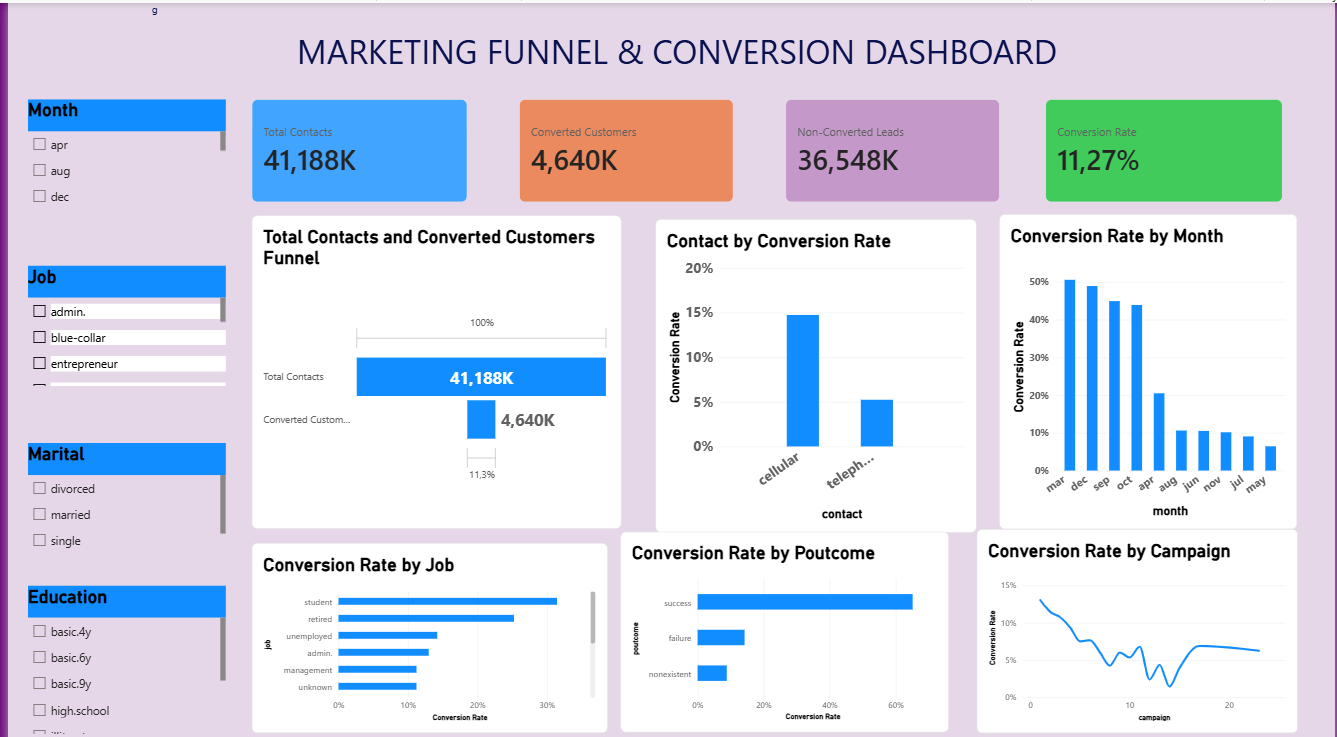

What the dashboard file says about the page in this screenshot:
{"tool":"powerbi","page":{"name":"Page 1","canvas":[1920,1080],"ordinal":0},"visuals":[{"type":"cardVisual","fields":{"Data":["bank-additional-full.Total Contacts"]},"box":[352.2,138.7,312.6,149.7],"z":0},{"type":"textbox","box":[208.2,0,1593.8,138.8],"z":1000},{"type":"cardVisual","fields":{"Data":["bank-additional-full.Converted Customers"]},"box":[739.7,138.7,310.4,149.7],"z":2000},{"type":"cardVisual","fields":{"Data":["bank-additional-full.Non-Converted Leads"]},"box":[1124.9,138.7,310.4,149.7],"z":3000},{"type":"cardVisual","fields":{"Data":["bank-additional-full.Conversion Rate"]},"box":[1501.3,138.7,343.4,149.7],"z":4000},{"type":"clusteredColumnChart","title":"Contact by Conversion Rate","fields":{"Category":["bank-additional-full.contact"],"Y":["bank-additional-full.Conversion Rate"]},"box":[937.8,312.6,464.5,453.5],"z":5000},{"type":"clusteredColumnChart","title":"Conversion Rate by Month","fields":{"Category":["bank-additional-full.month"],"Y":["bank-additional-full.Conversion Rate"]},"box":[1435.3,306,431.5,455.7],"z":6000},{"type":"barChart","title":"Conversion Rate by Job","fields":{"Category":["bank-additional-full.job"],"Y":["bank-additional-full.Conversion Rate"]},"box":[352.2,781.5,515.1,275.2],"z":7000},{"type":"barChart","title":"Conversion Rate by Poutcome","fields":{"Category":["bank-additional-full.poutcome"],"Y":["bank-additional-full.Conversion Rate"]},"box":[887.1,766.1,475.5,290.6],"z":8000},{"type":"lineChart","title":"Conversion Rate by Campaign","fields":{"Category":["bank-additional-full.campaign"],"Y":["bank-additional-full.Conversion Rate"]},"box":[1402.3,761.7,464.5,295],"z":9000},{"type":"funnel","title":"Total Contacts and Converted Customers Funnel","fields":{"Y":["bank-additional-full.Total Contacts","bank-additional-full.Converted Customers"]},"box":[352.2,308.2,534.9,453.5],"z":10000},{"type":"slicer","title":"Month","fields":{"Values":["bank-additional-full.month"]},"box":[28.6,138.7,286.2,149.7],"z":11000},{"type":"slicer","title":"Job","fields":{"Values":["bank-additional-full.job"]},"box":[28.1,393.9,286.2,173.9],"z":12000},{"type":"slicer","title":"Marital","fields":{"Values":["bank-additional-full.marital"]},"box":[28.6,636.2,286.2,160.7],"z":13000},{"type":"slicer","title":"Education","fields":{"Values":["bank-additional-full.education"]},"box":[28.6,843.1,286.2,213.5],"z":14000}]}

Visuals, with their boxes in screenshot pixels (x1, y1, x2, y2), scaled from the page's 1920x1080 canvas onto the 1337x737 screenshot:
cardVisual - bank-additional-full.Total Contacts: detection(245, 95, 463, 197)
textbox: detection(145, 0, 1255, 95)
cardVisual - bank-additional-full.Converted Customers: detection(515, 95, 731, 197)
cardVisual - bank-additional-full.Non-Converted Leads: detection(783, 95, 999, 197)
cardVisual - bank-additional-full.Conversion Rate: detection(1045, 95, 1285, 197)
"Contact by Conversion Rate" clusteredColumnChart: detection(653, 213, 976, 523)
"Conversion Rate by Month" clusteredColumnChart: detection(999, 209, 1300, 520)
"Conversion Rate by Job" barChart: detection(245, 533, 604, 721)
"Conversion Rate by Poutcome" barChart: detection(618, 523, 949, 721)
"Conversion Rate by Campaign" lineChart: detection(976, 520, 1300, 721)
"Total Contacts and Converted Customers Funnel" funnel: detection(245, 210, 618, 520)
"Month" slicer: detection(20, 95, 219, 197)
"Job" slicer: detection(20, 269, 219, 387)
"Marital" slicer: detection(20, 434, 219, 544)
"Education" slicer: detection(20, 575, 219, 721)
